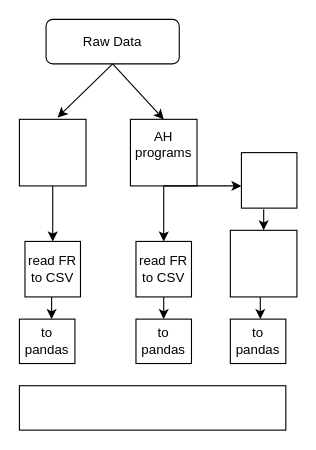
Some shapes in this 316 by 450 pixel diagram are drawn without their labels. Each missing label, with the box of its shape:
compiled data: (18, 385, 286, 430)
Format CSV to match FR: (229, 229, 297, 297)
read PR to CSV: (240, 152, 297, 208)
RK programs: (18, 118, 86, 186)
